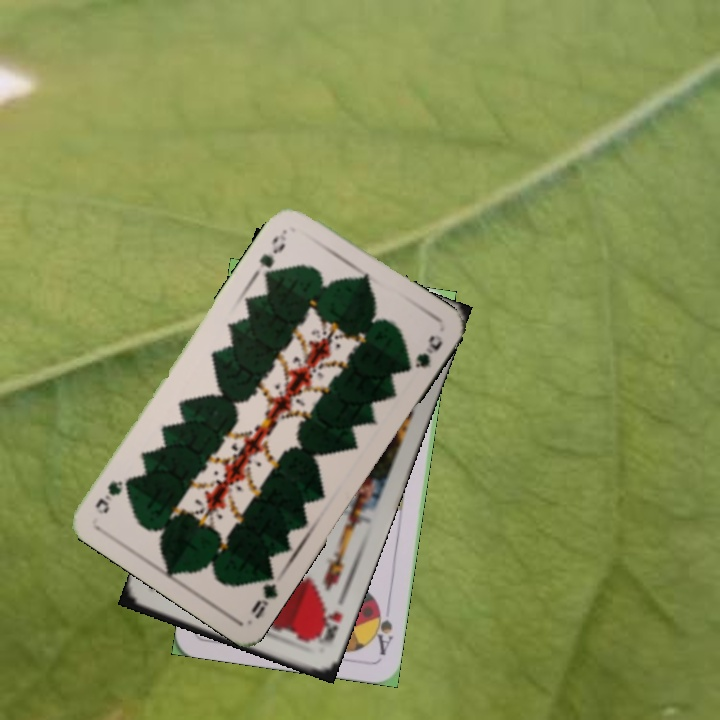G9: (255, 225, 290, 282), (247, 565, 281, 622)
HK: (310, 604, 346, 645)
SA: (368, 598, 395, 658)
